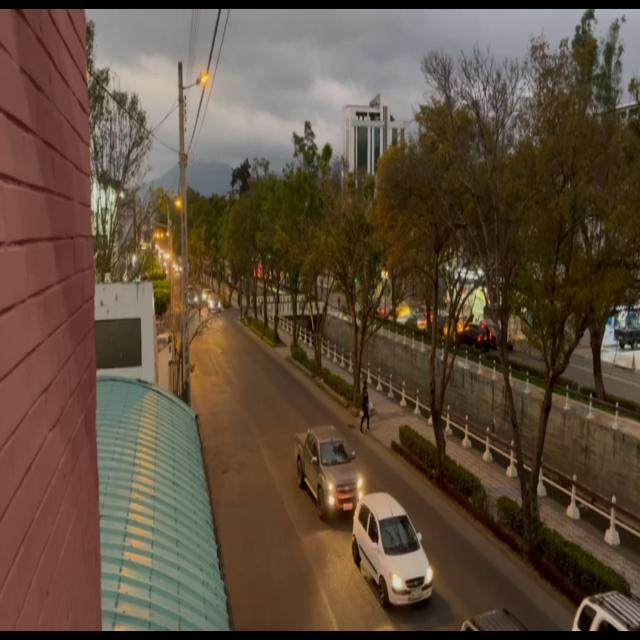CMT: (302, 431, 362, 518)
SUV: (358, 502, 433, 605)
